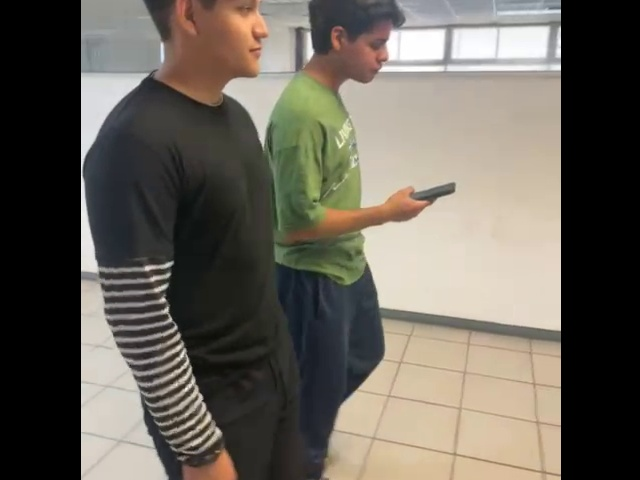mixto2: (403, 173, 462, 205)
